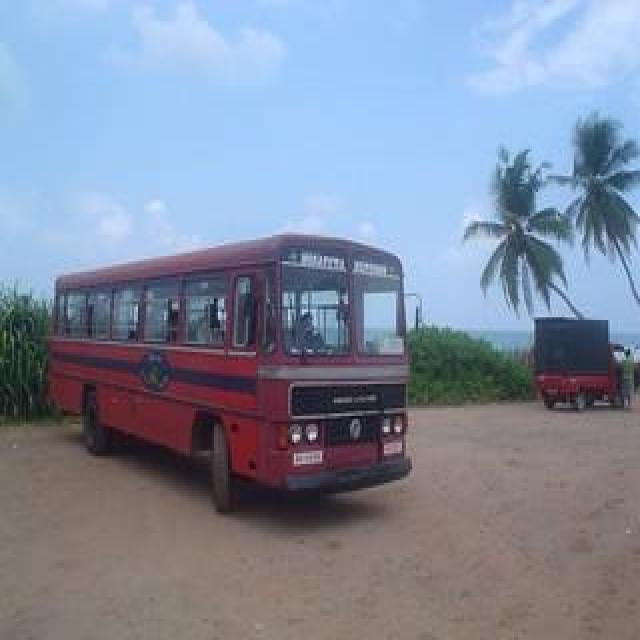Bus: (29, 182, 429, 499)
Truck: (520, 267, 640, 416)
